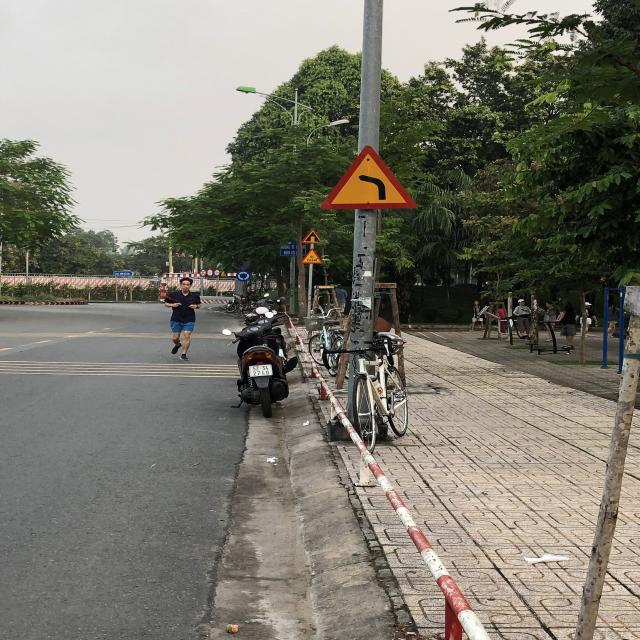Bien bao cho ngoat nguy hiem: (321, 145, 419, 213)
Bien bao di cham: (299, 248, 324, 264)
Bien bao noi giao nhau chay theo vong xuyen: (236, 270, 252, 282)
